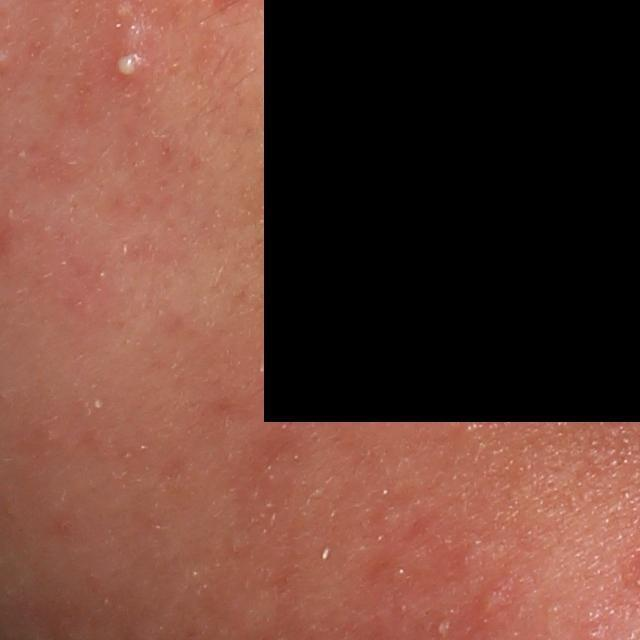pustule: (114, 50, 139, 80)
